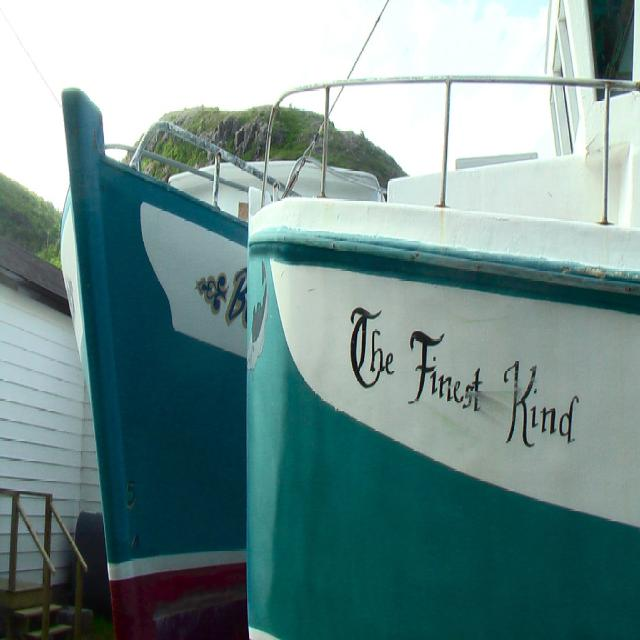Boat: (202, 24, 634, 629), (55, 103, 388, 639)
